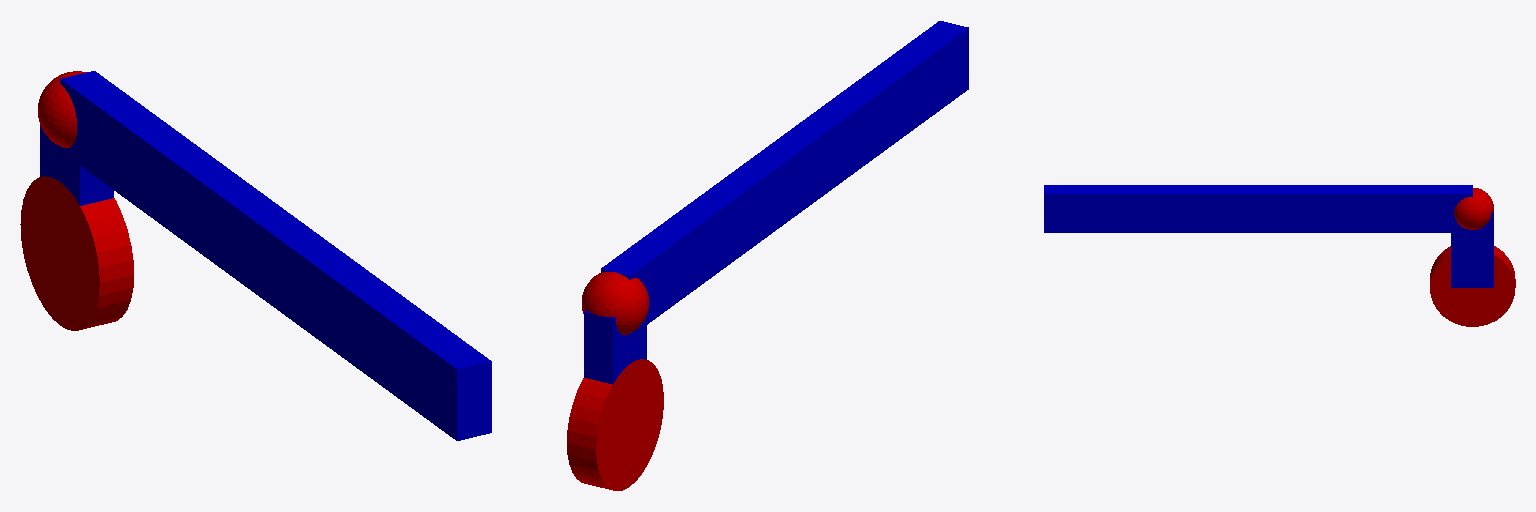
The robot description file, URDF, robot "TwoLinkStruct4054779908":
<?xml version="1.0"?>
<robot  name="TwoLinkStruct4054779908" >
 <material  name="blue" >
  <color  rgba="0 0 0.8 1.0" />
 </material>
 <material  name="red" >
  <color  rgba="0.8 0 0 1.0" />
 </material>
 <link  name="base_link" >
  <visual >
   <origin  rpy="0 1.5707 0"  xyz="0 0 0" />
   <material  name="red" />
   <geometry >
    <cylinder  length="0.05"  radius="0.1" />
   </geometry>
  </visual>
 </link>
 <joint  type="revolute"  name="joint1" >
  <parent  link="base_link" />
  <child  link="link1" />
  <origin  xyz="0 0 0"  rpy="0 0 0" />
  <axis  xyz="1 0 0" />
 </joint>
 <link  name="link1" >
  <inertial >
   <origin  rpy="0 0 0"  xyz="0 0 0.09644511853580036" />
   <mass  value="0.8526134010332458" />
   <inertia  ixy="0.0"  iyy="0.0003552555837638525"  izz="0.0028212013672672975"  ixz="0.0"  ixx="0.0028212013672672975"  iyz="0.0" />
  </inertial>
  <visual >
   <origin  rpy="0 0 0"  xyz="0 0 0.09644511853580036" />
   <material  name="blue" />
   <geometry >
    <box  size="0.05 0.1 0.19289023707160072" />
   </geometry>
  </visual>
 </link>
 <joint  type="fixed"  name="joint-joint-1" >
  <parent  link="link1" />
  <child  link="joint-link-1" />
  <origin  xyz="0 0 0.19289023707160072"  rpy="1.5707 0 0" />
  <axis  xyz="1 0 0" />
 </joint>
 <link  name="joint-link-1" >
  <inertial >
   <origin  rpy="0 0 0"  xyz="0 0 0" />
   <mass  value="4.715128427780361" />
   <inertia  ixy="0"  iyy="0"  izz="0"  ixz="0"  ixx="0"  iyz="0" />
  </inertial>
  <visual >
   <origin  rpy="0 0 0"  xyz="0 0 0" />
   <material  name="red" />
   <geometry >
    <sphere  radius="0.05" />
   </geometry>
  </visual>
 </link>
 <joint  type="revolute"  name="joint2" >
  <parent  link="link1" />
  <child  link="link2" />
  <origin  xyz="0 0 0.19289023707160072"  rpy="1.5707 0 0" />
  <axis  xyz="1 0 0" />
 </joint>
 <link  name="link2" >
  <inertial >
   <origin  rpy="0 0 0"  xyz="0 0 0.5" />
   <mass  value="4.155763149261475" />
   <inertia  ixy="0.0"  iyy="0.0003552555837638525"  izz="0.0712287445446524"  ixz="0.0"  ixx="0.0712287445446524"  iyz="0.0" />
  </inertial>
  <visual >
   <origin  rpy="0 0 0"  xyz="0 0 0.5" />
   <material  name="blue" />
   <geometry >
    <box  size="0.05 0.1 1.0" />
   </geometry>
  </visual>
 </link>
 <joint  type="fixed"  name="eef_joint" >
  <parent  link="link2" />
  <child  link="eef" />
  <origin  xyz="0 0 1.0"  rpy="0 0 0" />
 </joint>
 <link  name="eef" >
  <inertial >
   <origin  rpy="0 0 0"  xyz="0 0 0" />
   <mass  value="1" />
   <inertia  ixy="0"  iyy="0"  izz="0"  ixz="0"  ixx="0"  iyz="0" />
  </inertial>
 </link>
 <transmission  name="motor1" >
  <type  xmltext="SimpleTransmission" >
   SimpleTransmission
  </type>
  <actuator  name="motor1" >
   <mechanicalreduction  xmltext="1" >
    1
   </mechanicalreduction>
  </actuator>
  <joint  name="joint1" />
 </transmission>
 <transmission  name="motor2" >
  <type  xmltext="SimpleTransmission" >
   SimpleTransmission
  </type>
  <actuator  name="motor2" >
   <mechanicalreduction  xmltext="1" >
    1
   </mechanicalreduction>
  </actuator>
  <joint  name="joint2" />
 </transmission>
</robot>

<!-- {'carti': array([-0.1 ,  0.14,  0.85]), 'cartd': array([-0.1 ,  0.32,  1.29]), 'tau_mu': 0.39373791687853227, 'b0': 1.0, 'Km': 5.0, 'k_velocity': 44.1197224451212, 'tau_max_m': 2.6903605564202153, 'omega_max_m': 9000.0, 'gear_ratio': 6.267652830239603, 'Kp': 4.086210349764243, 'Kd': 97.39708846574976, 'm_m': 4.715128427780361, 'l1': 0.19289023707160072, 'l2': 1.0, 'k1': 6135.382702492112, 'k2': 2760388.995750919, 'k3': 379000000.0}-->

--- Render facts (derived) ---
3 views of the same robot in one strip: view 1: azimuth 30°, elevation 25°; view 2: azimuth 150°, elevation 25°; view 3: azimuth 270°, elevation 25° (orthographic).
Model TwoLinkStruct4054779908 with 5 links and 4 joints (2 revolute, 2 fixed), rooted at base_link, posed every joint at zero.
Links seen in each view (by area): view 1: link2, base_link, link1, joint-link-1; view 2: link2, base_link, link1, joint-link-1; view 3: link2, base_link, link1, joint-link-1.
Link boxes in pixels (bbox=[...]): link2: bbox=[60, 71, 491, 440]; base_link: bbox=[20, 176, 133, 330]; link1: bbox=[40, 125, 113, 205]; joint-link-1: bbox=[38, 71, 86, 147]; link2: bbox=[601, 21, 968, 332]; base_link: bbox=[567, 359, 663, 490]; link1: bbox=[584, 310, 646, 384]; joint-link-1: bbox=[582, 272, 648, 334]; link2: bbox=[1044, 185, 1472, 232]; base_link: bbox=[1430, 246, 1515, 326]; link1: bbox=[1451, 211, 1493, 287]; joint-link-1: bbox=[1454, 188, 1493, 229].
Bounding box of the posed robot: 0.1 × 1.1 × 0.343 m (x, y, z).
Geometry: primitives only (box / cylinder / sphere), no mesh files.
